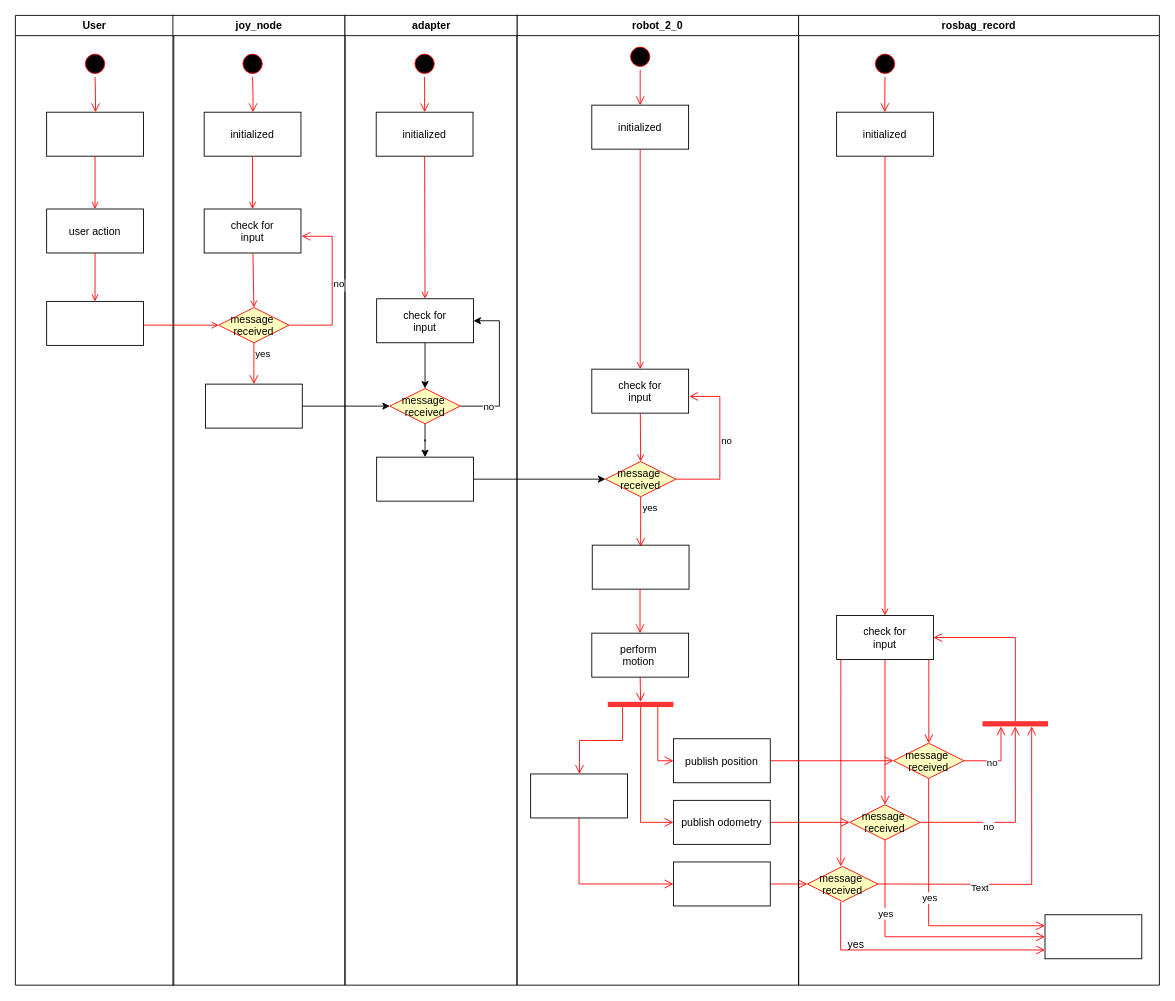
Some shapes in this 1175 by 1001 pixel diagram are drawn without their labels. The centre of each missing label's shape, as x and y in pixels:
compute velocies: point 640,566
joystick: point 94,133
Joystick State: point 94,323
publish state: point 253,405
publish twist: point 424,478
save in .bag file: point 1093,936
sensor status: point 578,795
sesor output: point 721,883
